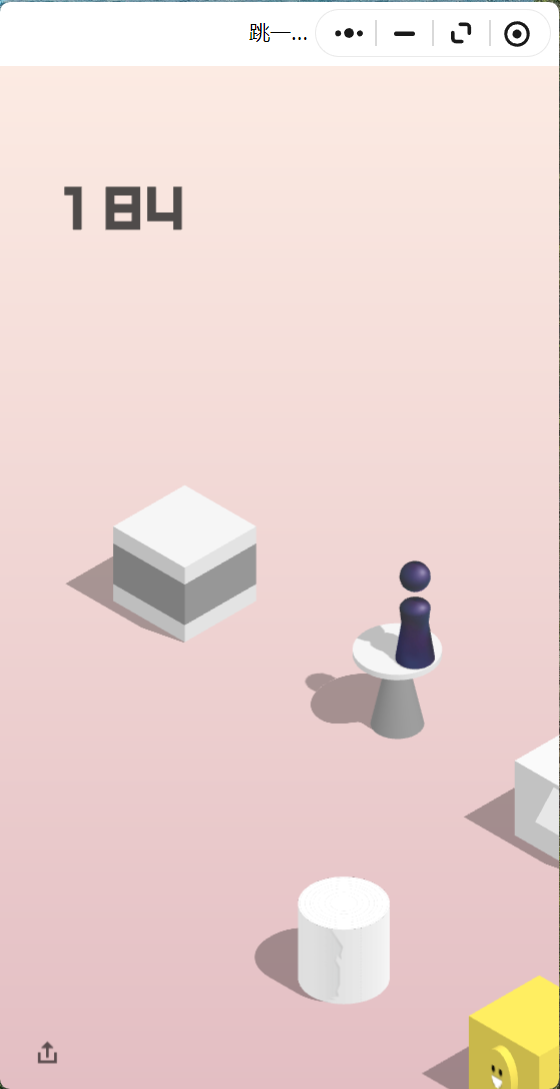piece: (400, 560, 430, 665)
target: (114, 485, 256, 567)
